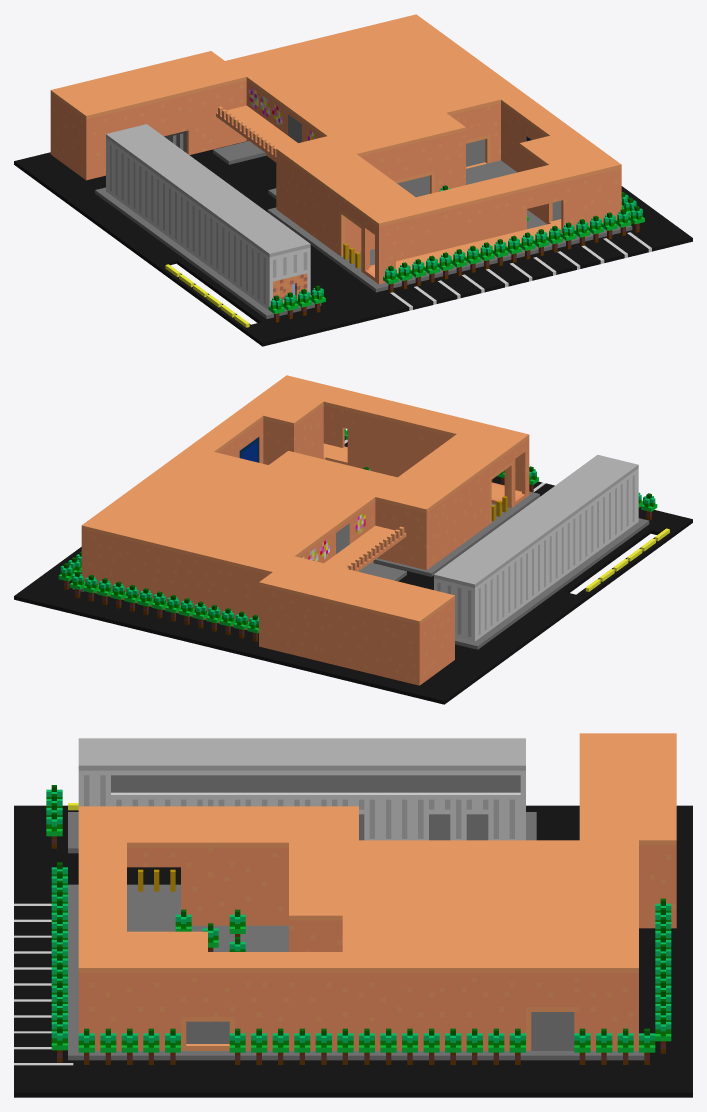
File: Legorreta-9.obj
The picture shows the model from 3 angles, top to bottom: view 1: azimuth 30°, elevation 25°; view 2: azimuth 150°, elevation 25°; view 3: azimuth 270°, elevation 25°; orthographic projection. The views are drawn at different scales.
Bounding box in the file's own units: 12.6 × 2 × 12.6.
Materials: 1 (1 with a texture image).
